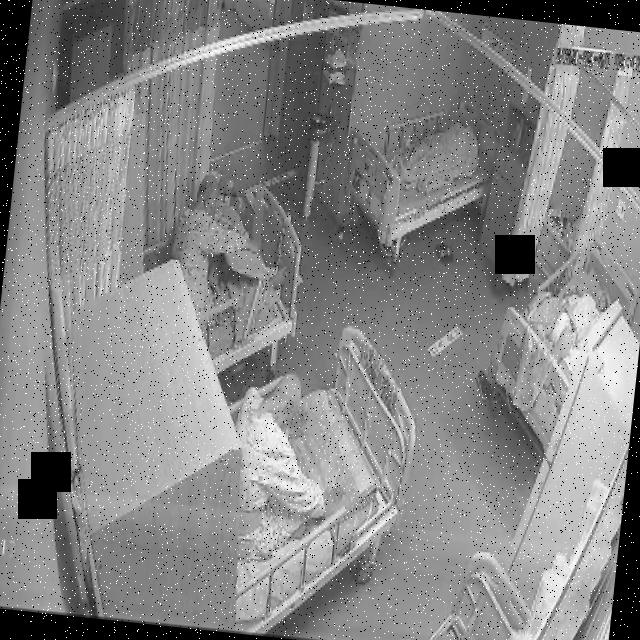bed: (220, 318, 426, 640), (481, 225, 640, 462), (164, 180, 308, 384), (341, 87, 496, 256)
lie: (527, 278, 612, 371)
patient: (222, 370, 356, 570), (168, 172, 296, 330), (551, 283, 612, 360)
sit: (223, 369, 356, 566), (168, 172, 296, 328)
